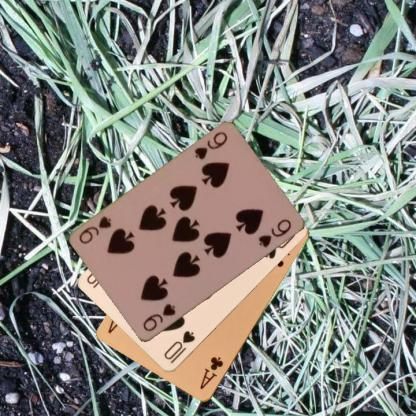10s: (162, 328, 197, 365)
9s: (140, 300, 177, 334), (191, 129, 229, 161)
Ac: (197, 354, 225, 391)
